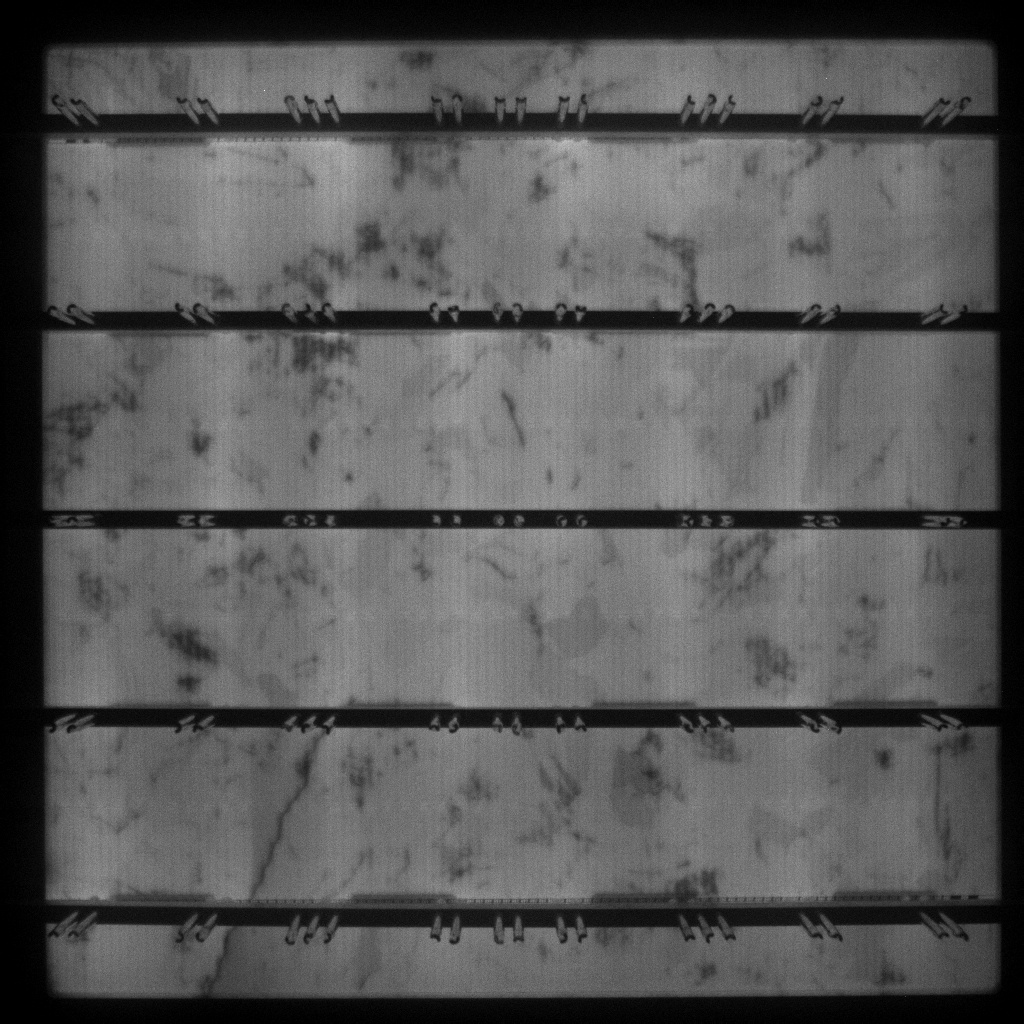crack: (245, 734, 328, 896), (202, 930, 242, 996)
